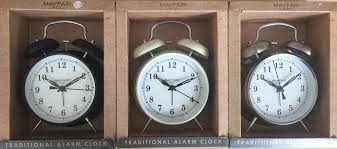alarm_clock: (21, 20, 318, 131)
